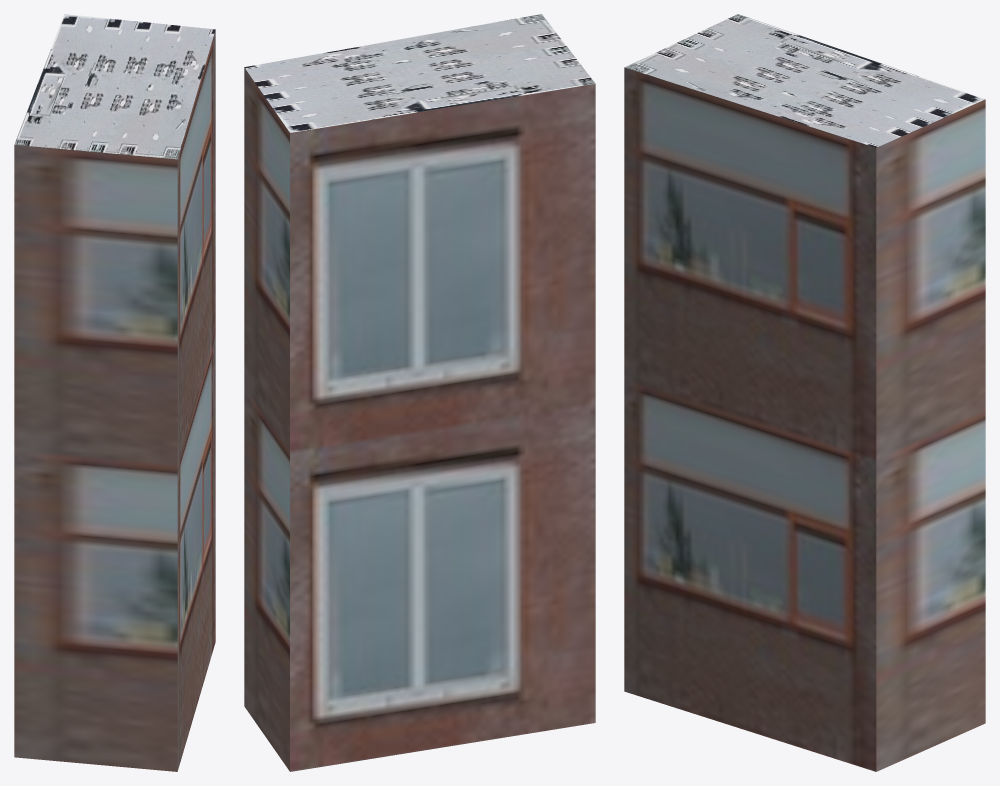
Rendered from ResTex__2946.fbx.
3 views of the same model, side by side, from view 1: azimuth 30°, elevation 25°; view 2: azimuth 150°, elevation 25°; view 3: azimuth 270°, elevation 25° (orthographic). The views are drawn at different scales.
Parts seen in each view (by area): view 1: CityEngineMaterial_19_m, CityEngineMaterial_15_m; view 2: CityEngineMaterial_19_m, CityEngineMaterial_15_m; view 3: CityEngineMaterial_19_m, CityEngineMaterial_15_m.
Boxes of the visible parts, bbox=[...] form: CityEngineMaterial_19_m: bbox=[14, 30, 215, 771]; CityEngineMaterial_15_m: bbox=[14, 14, 215, 159]; CityEngineMaterial_19_m: bbox=[244, 68, 595, 771]; CityEngineMaterial_15_m: bbox=[244, 14, 595, 132]; CityEngineMaterial_19_m: bbox=[624, 67, 985, 771]; CityEngineMaterial_15_m: bbox=[625, 14, 984, 147].
Bounding box in the file's own units: 2.76 × 6 × 3.15.
Materials: 2 (2 with a texture image).
